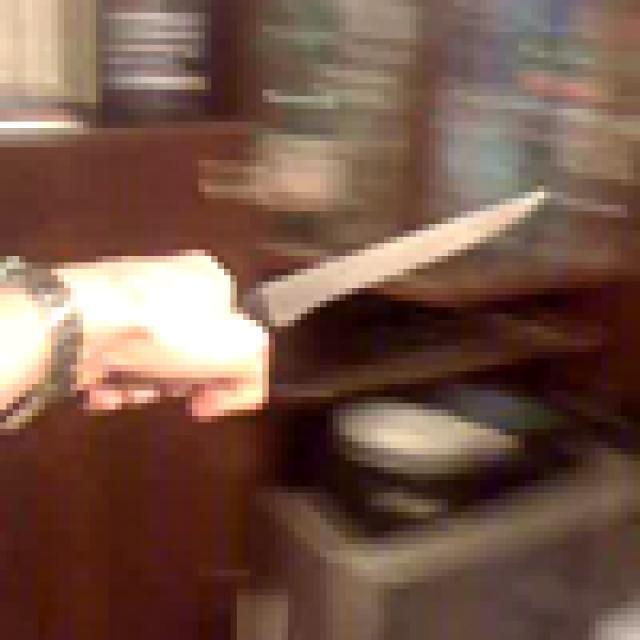knife: (166, 167, 564, 390)
